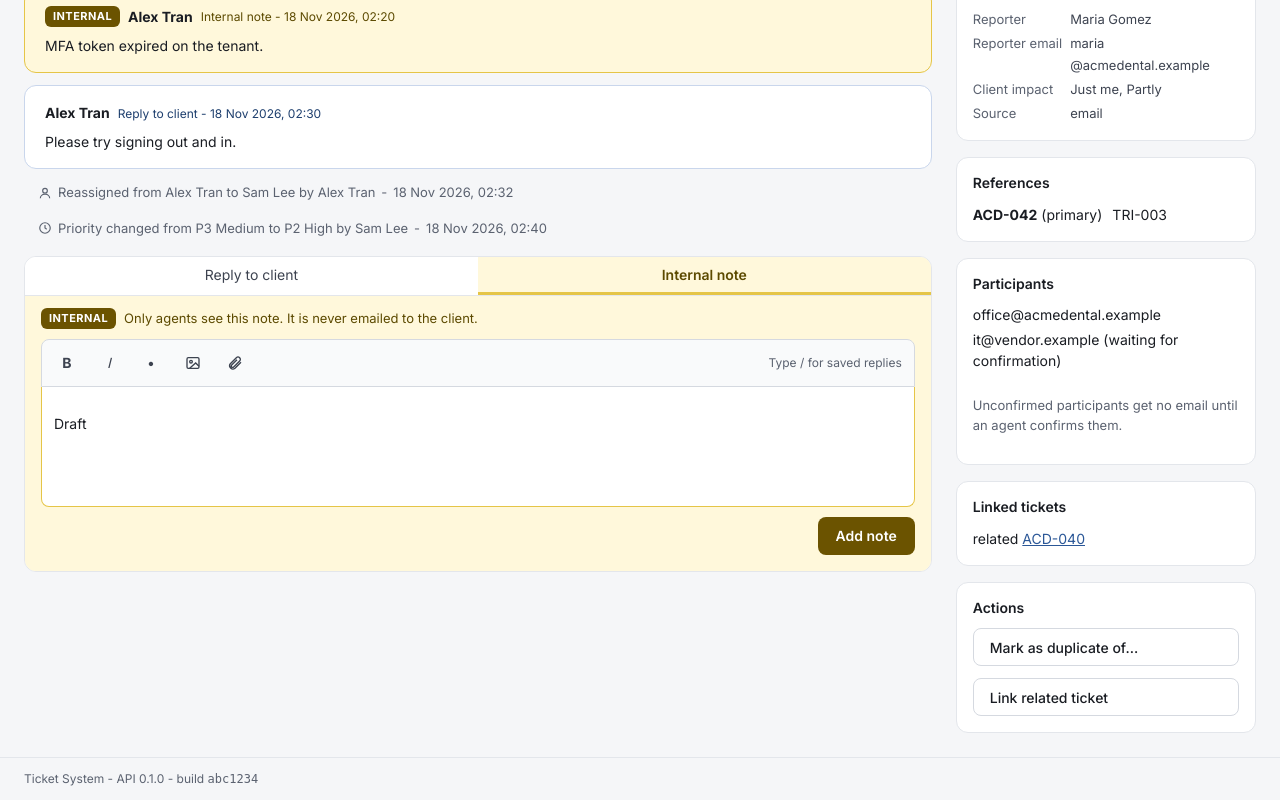
Test case: Agent ticket page › a 401 on send goes to sign-in and the draft survives
The width and height of the screenshot is (1280, 800).
(page scrolled)
Click the button "Add note". click: (866,536)
box: [818,516,915,554]
(page scrolled)
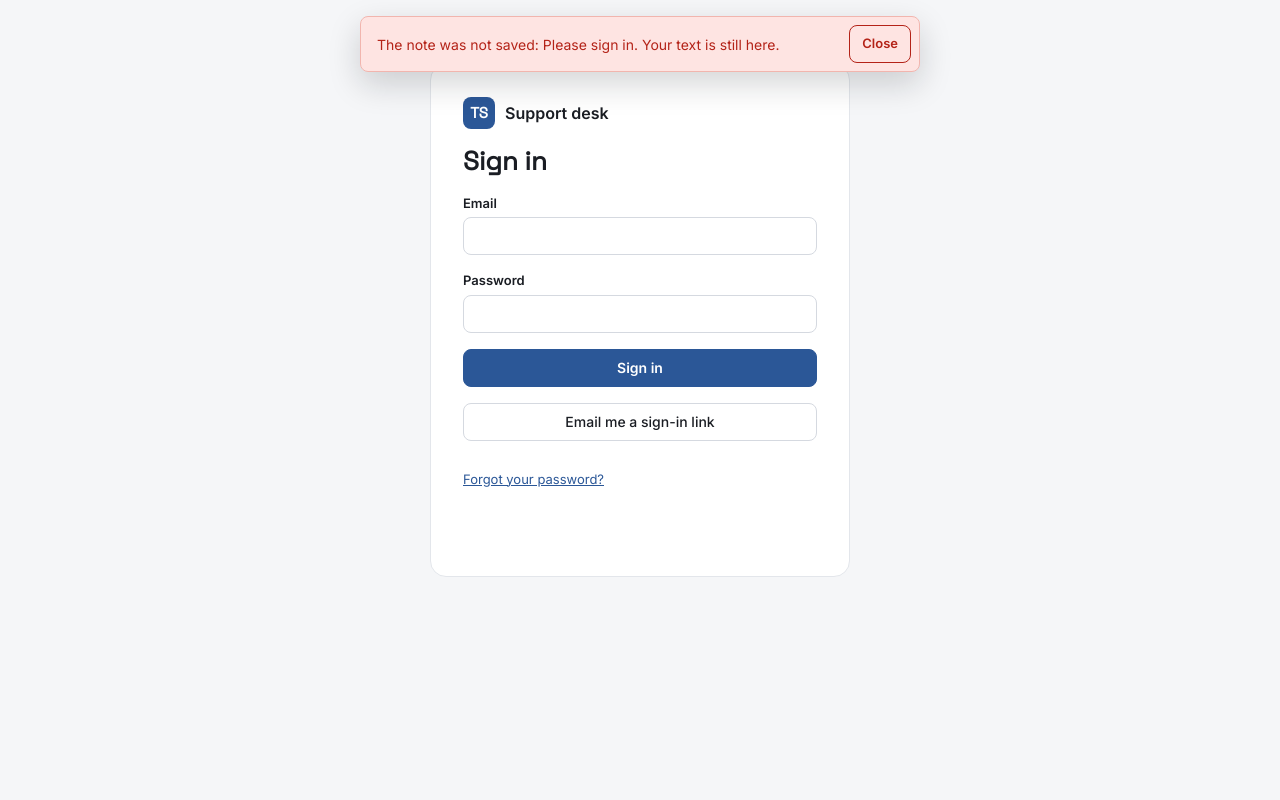
Check: the heading "Sign in" is shown, box [463,144,547,178]
